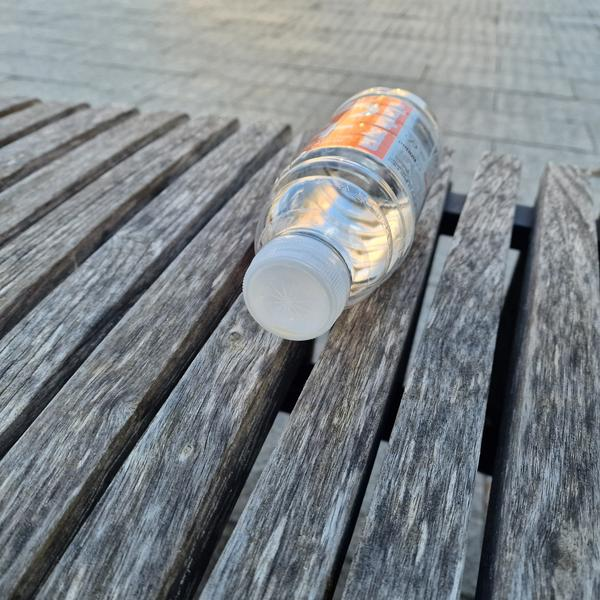plastic_bottle: (204, 50, 483, 374)
